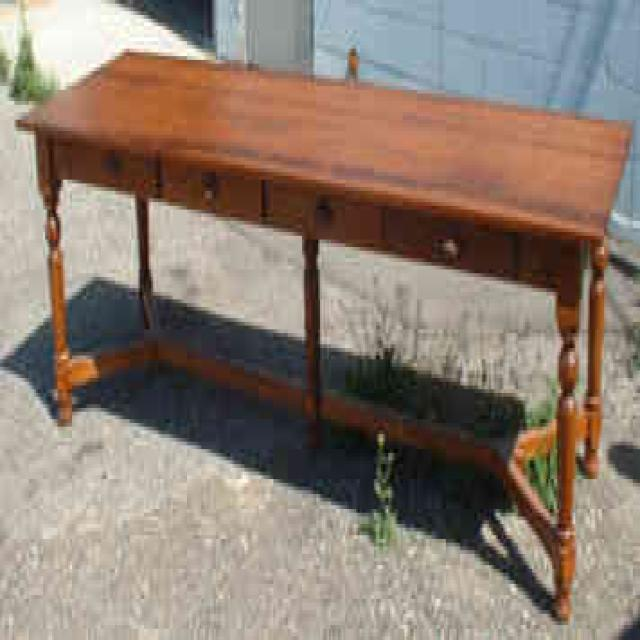table: (15, 48, 633, 620)
